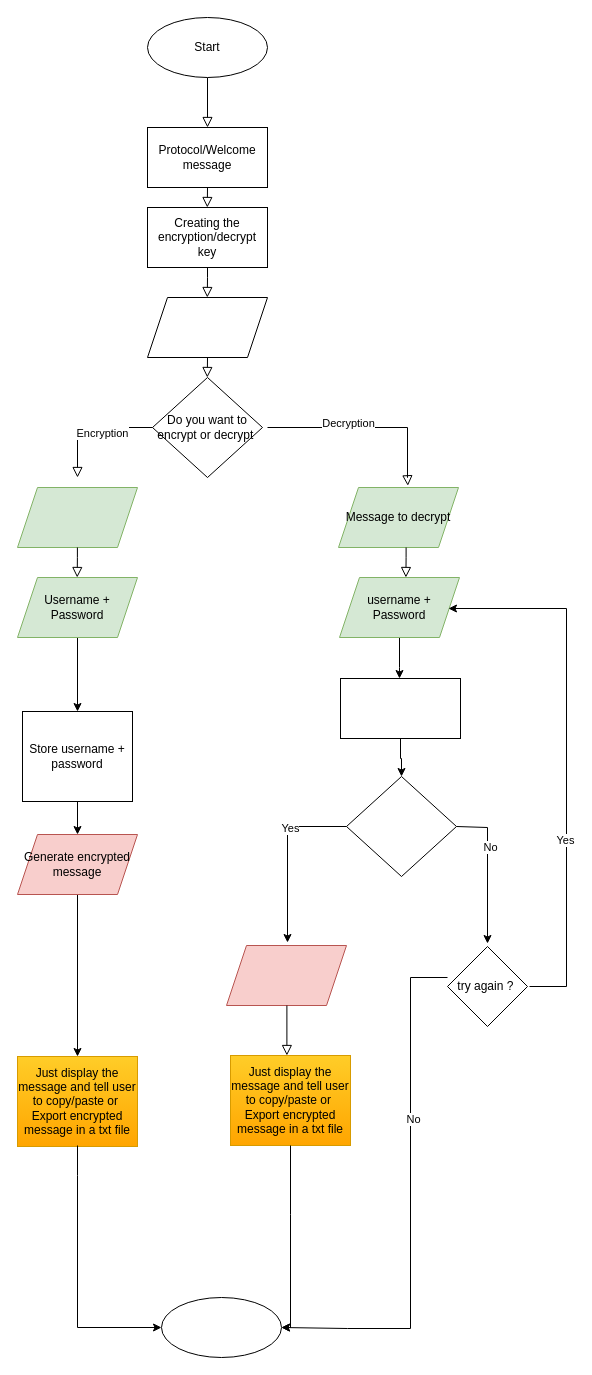
Image size: 592x1375. Some labels were removed from this diagram. The centre of each missing label's shape, as x and y in pixels:
"choice" belongs at point 207,327.
"Decrypted message" belongs at point 286,975.
"End" belongs at point 221,1327.
"Message to encrypt" belongs at point 77,517.
"password check" belongs at point 400,708.
"Valid password" belongs at point 401,826.
